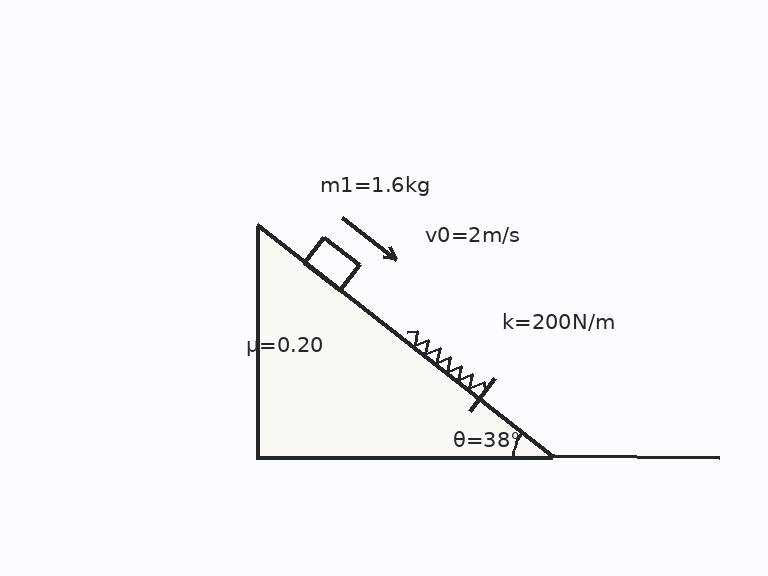block: (302, 235, 361, 292)
ramp: (255, 224, 555, 459)
spring: (405, 329, 486, 394)
